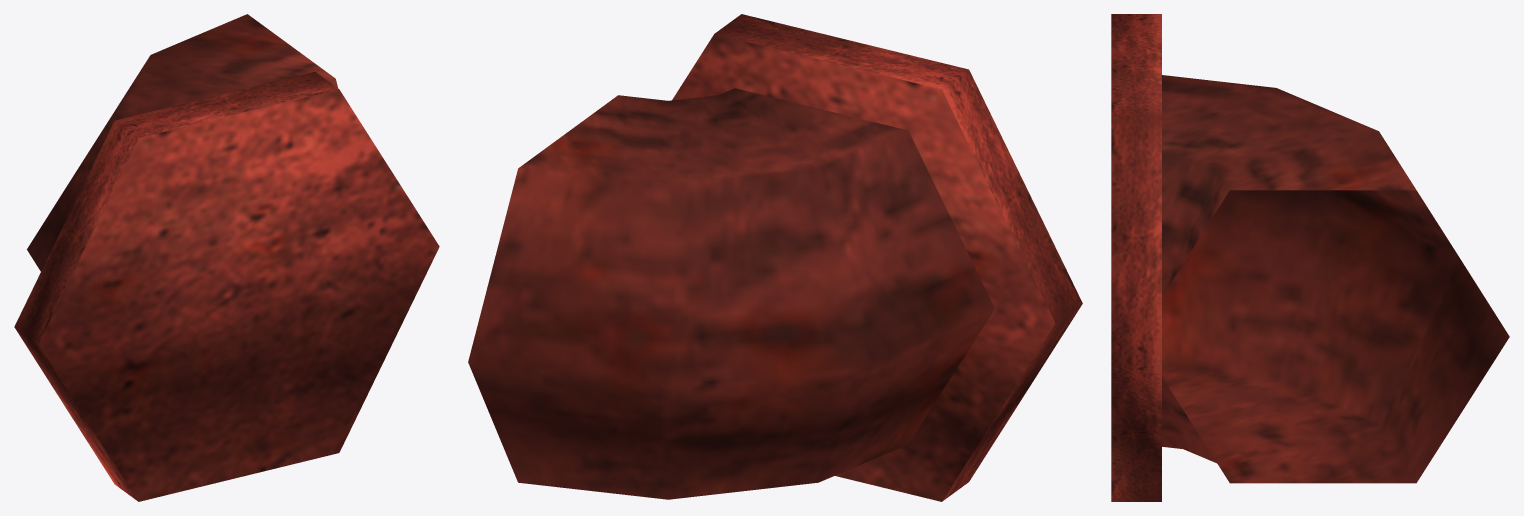
Rendered from small_red_1_elbow_hz.fbx.
The picture shows the model from 3 angles, left to right: view 1: azimuth 30°, elevation 25°; view 2: azimuth 150°, elevation 25°; view 3: azimuth 270°, elevation 25°; orthographic projection. The views are drawn at different scales.
Visible parts, largest first — view 1: polySurface637; view 2: polySurface637; view 3: polySurface637.
Part boxes in pixels (<box>): polySurface637: <box>14,14,439,501</box>; polySurface637: <box>468,14,1082,501</box>; polySurface637: <box>1111,14,1509,501</box>.
Bounding box in the file's own units: 0.6563 × 0.5683 × 0.5341.
